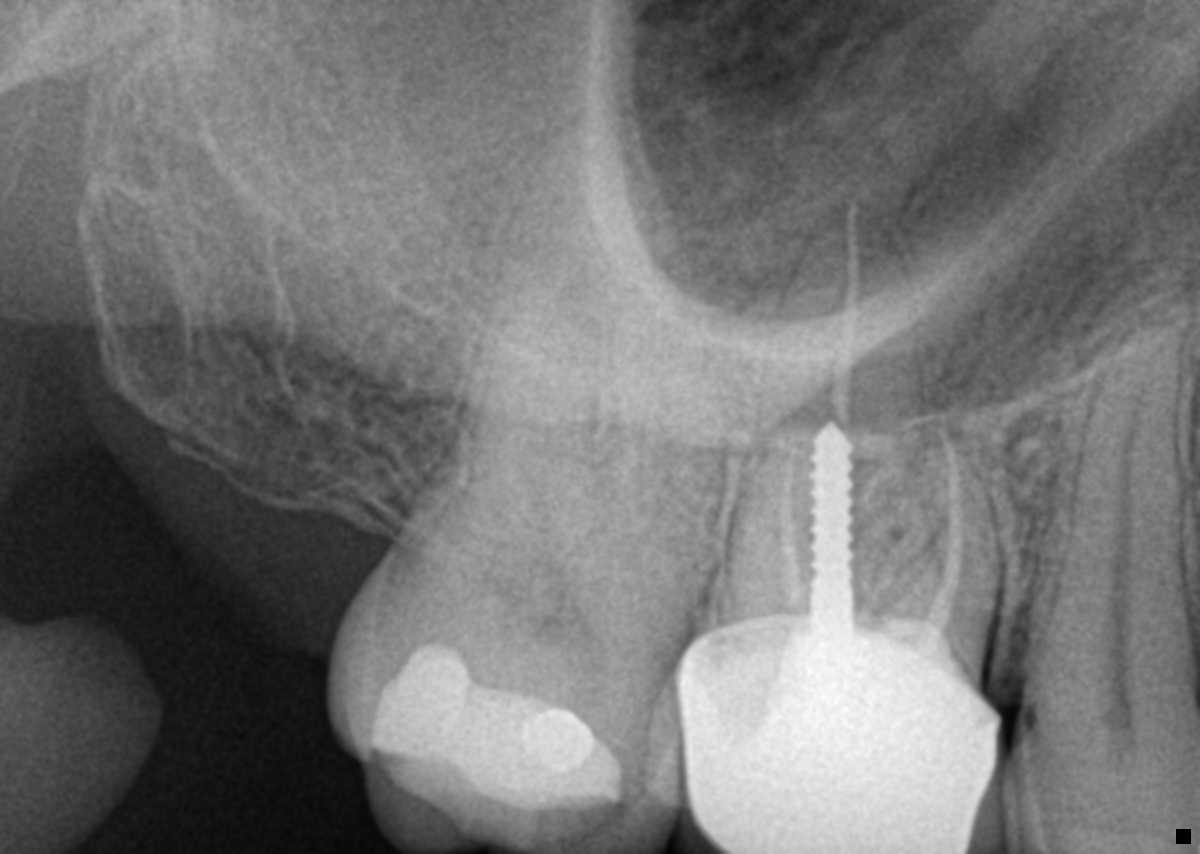Distal Root: (451, 246, 609, 494), (720, 416, 833, 623)
Main Canal: (1107, 350, 1156, 701)
Main Root: (1027, 324, 1197, 702)
Mesial Root: (590, 277, 724, 599), (873, 441, 1001, 673)
Palatal Root: (431, 109, 705, 577)
Root Canal Filling: (720, 205, 962, 655), (915, 445, 963, 646), (779, 449, 805, 602)
